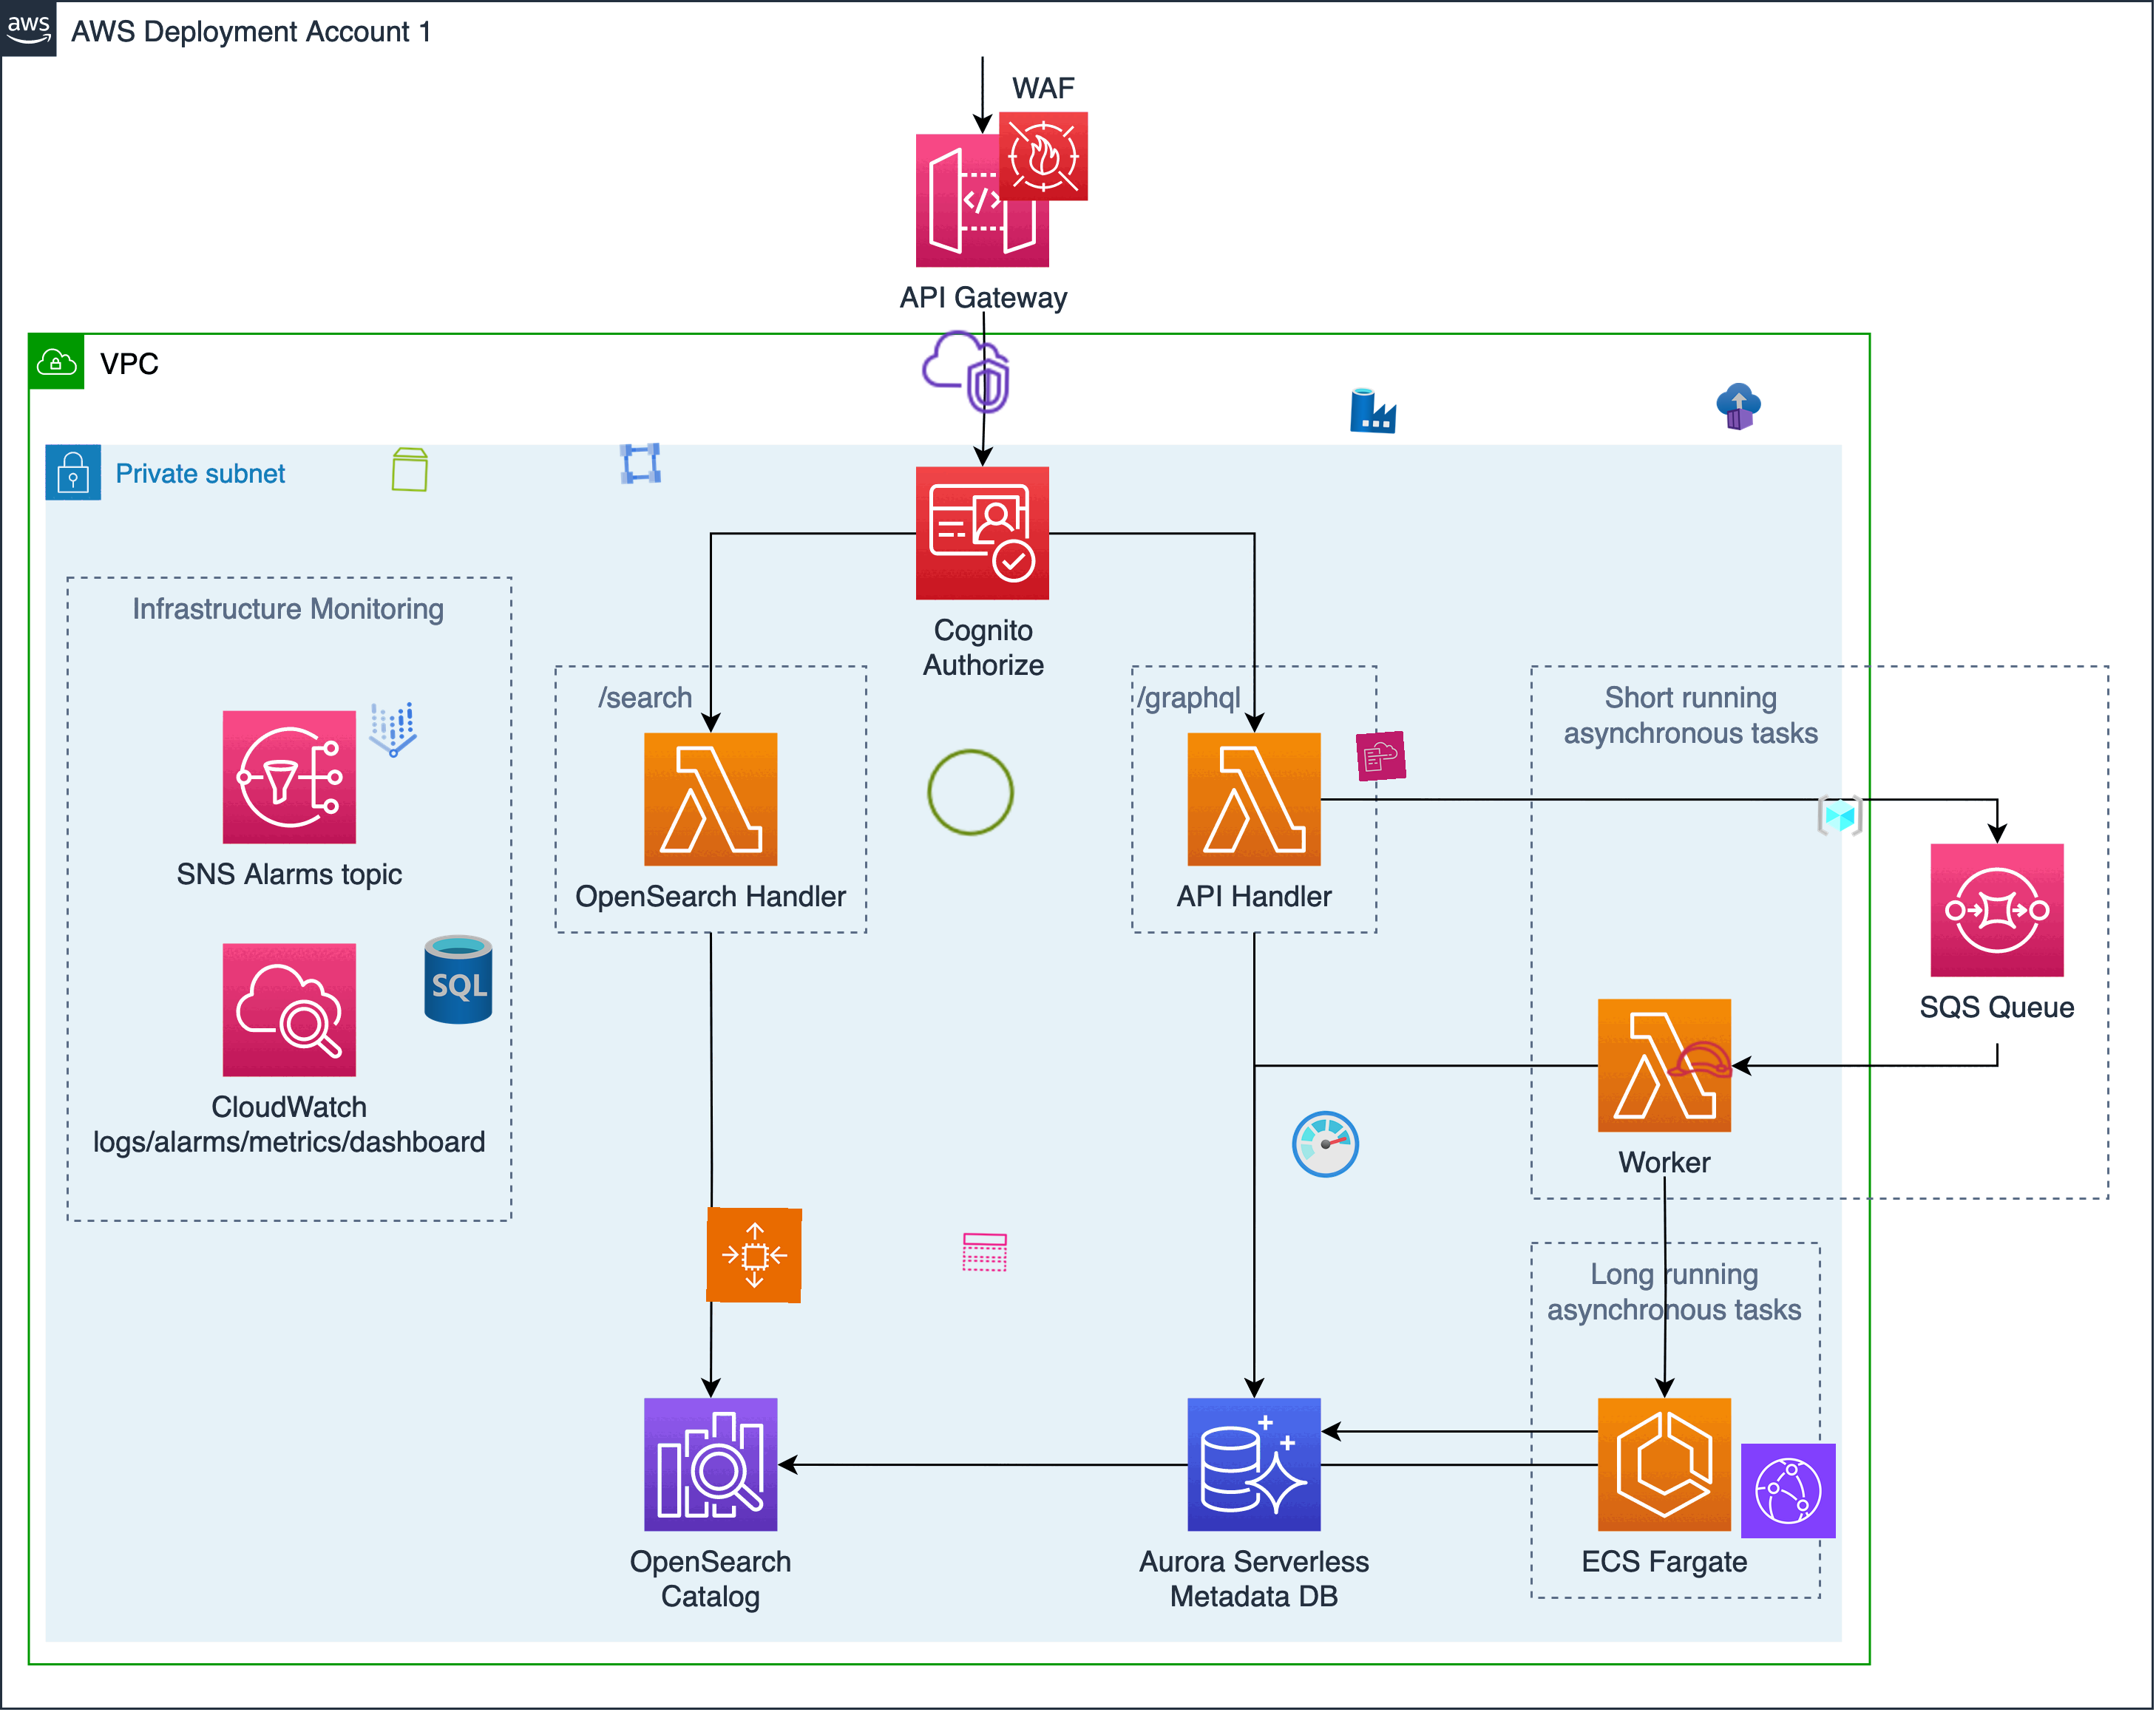aws_amazon_cloudfront: (1741, 1443, 1836, 1539)
aws_amazon_ec2_auto_scaling: (705, 1207, 801, 1303)
aws_cloudformation: (1355, 731, 1407, 782)
aws_elastic_block_store_volume: (385, 444, 436, 495)
aws_identity_access_management_role: (1662, 1021, 1740, 1098)
aws_simple_notification_service_topic: (961, 1228, 1010, 1277)
aws_simple_storage_service_object: (921, 741, 1022, 843)
aws_vpc_virtual_private_cloud_vpc: (917, 324, 1013, 420)
azure_container_instances: (1713, 381, 1764, 432)
azure_data_factories: (1349, 385, 1398, 435)
azure_monitor: (1288, 1105, 1365, 1182)
azure_resource_groups: (1816, 790, 1866, 839)
azure_sql_database: (410, 932, 506, 1028)
gcp_vertex_ai: (355, 694, 429, 768)
gcp_virtual_private_cloud: (616, 439, 665, 488)
